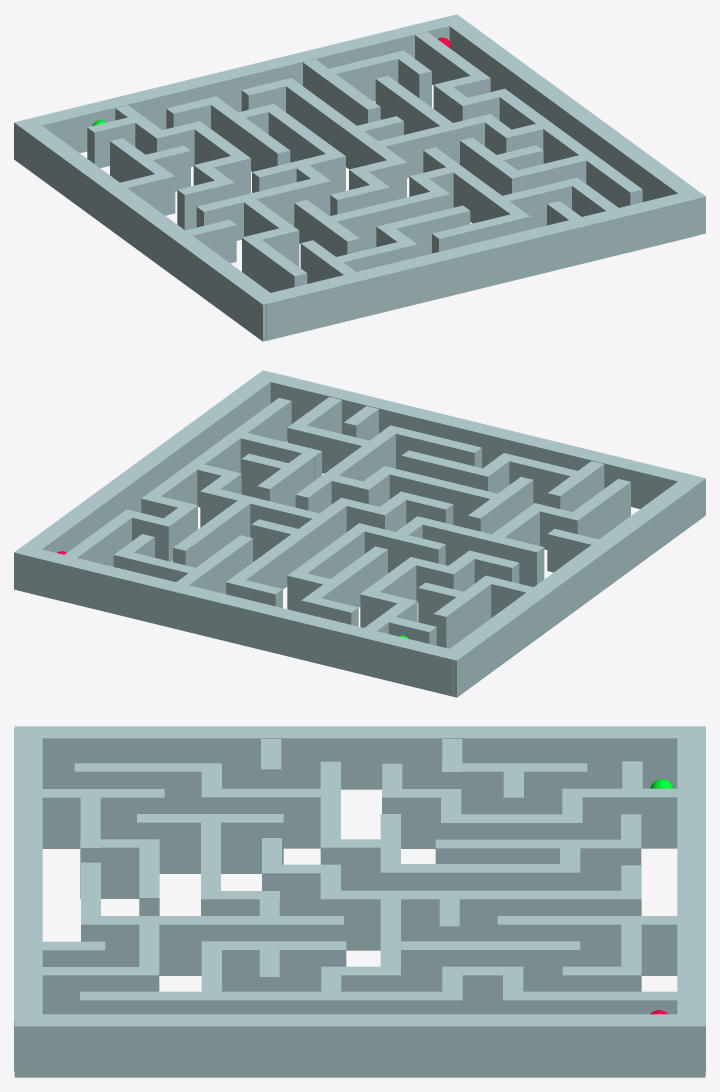
File: Laberinto3.fbx
3 renders of one model, top to bottom at view 1: azimuth 30°, elevation 25°; view 2: azimuth 150°, elevation 25°; view 3: azimuth 270°, elevation 25°, orthographic. The views are drawn at different scales.
Visible parts, largest first — view 1: pasted__polySurface86, pasted__polySurface85, pasted__polySurface84, pasted__polySurface87, pasted__pCube74, pasted__pCube67, pasted__pCube81, pasted__pCube83, pasted__pCube65, pasted__pCube62, pasted__pCube78, pasted__pCube66 (+46 smaller); view 2: pasted__polySurface84, pasted__polySurface85, pasted__polySurface86, pasted__polySurface87, pasted__pCube74, pasted__pCube67, pasted__pCube81, pasted__pCube65, pasted__pCube72, pasted__pCube78, pasted__pCube60, pasted__pCube83 (+45 smaller); view 3: pasted__polySurface87, pasted__polySurface85, pasted__pCube67, pasted__pCube74, pasted__polySurface84, pasted__pCube65, pasted__polySurface86, pasted__pCube72, pasted__pCube66, pasted__pCube63, pasted__pCube62, pasted__pCube60 (+43 smaller).
Part boxes in pixels (box(x1,y1,x2,y2)): pasted__polySurface86: box(266, 191, 696, 340); pasted__polySurface85: box(14, 119, 279, 341); pasted__polySurface84: box(18, 16, 457, 152); pasted__polySurface87: box(440, 14, 705, 235); pasted__pCube74: box(493, 88, 642, 207); pasted__pCube67: box(279, 78, 406, 169); pasted__pCube81: box(196, 175, 330, 240); pasted__pCube83: box(368, 114, 497, 178); pasted__pCube65: box(423, 147, 528, 223); pasted__pCube62: box(204, 96, 290, 171); pasted__pCube78: box(329, 190, 443, 250); pasted__pCube66: box(303, 59, 380, 125); pasted__polySurface84: box(23, 547, 453, 696); pasted__polySurface85: box(440, 474, 705, 697); pasted__polySurface86: box(262, 372, 702, 508); pasted__polySurface87: box(14, 370, 279, 591); pasted__pCube74: box(141, 398, 291, 515); pasted__pCube67: box(226, 500, 352, 589); pasted__pCube81: box(410, 516, 544, 586); pasted__pCube65: box(295, 425, 402, 513); pasted__pCube72: box(173, 495, 252, 567); pasted__pCube78: box(378, 466, 499, 528); pasted__pCube60: box(433, 576, 497, 648); pasted__pCube83: box(200, 486, 328, 537); pasted__polySurface87: box(14, 1014, 705, 1077); pasted__polySurface85: box(14, 726, 705, 789); pasted__pCube67: box(321, 890, 641, 950); pasted__pCube74: box(80, 991, 462, 1014); pasted__polySurface84: box(677, 728, 705, 1071); pasted__pCube65: box(81, 916, 343, 975); pasted__polySurface86: box(14, 728, 42, 1071); pasted__pCube72: box(382, 941, 580, 991); pasted__pCube66: box(497, 916, 677, 975); pasted__pCube63: box(137, 814, 283, 873); pasted__pCube62: box(435, 839, 640, 890); pasted__pCube60: box(442, 763, 587, 814).
Bounding box in the file's own units: 25.09 × 2.03 × 24.44.
